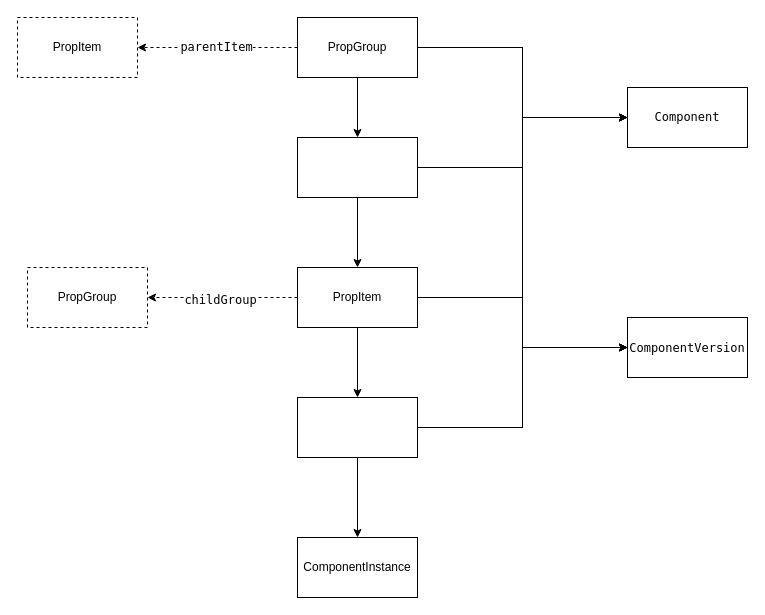
Some shapes in this 765 by 615 pixel diagram are drawn without their labels. The shapes that lost their labels are listed below. From the top down, each one's centre as x and y in pixels, then its label:
At point (357, 167): "PropBlock".
At point (357, 427): "PropValue".
